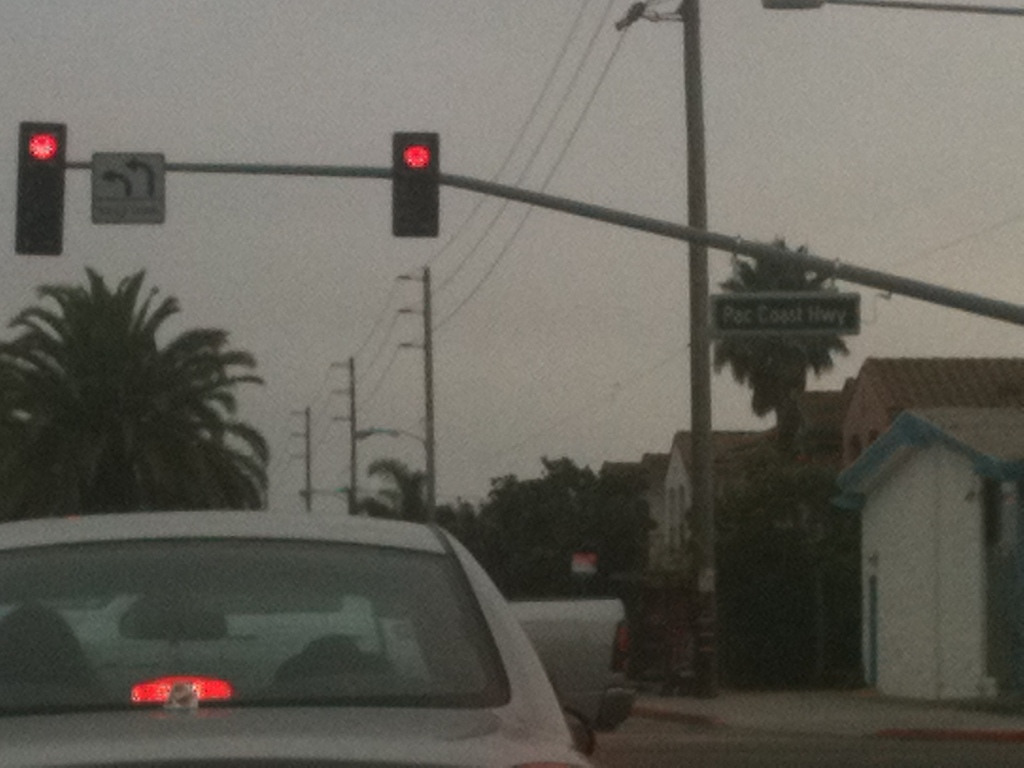red_light: (20, 123, 65, 253), (393, 134, 440, 239)
